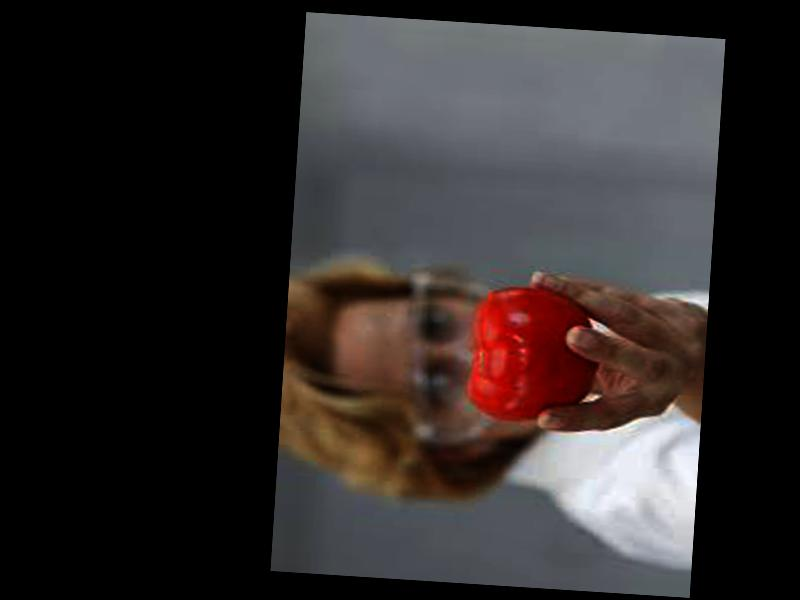Tomato: (468, 285, 599, 429)
